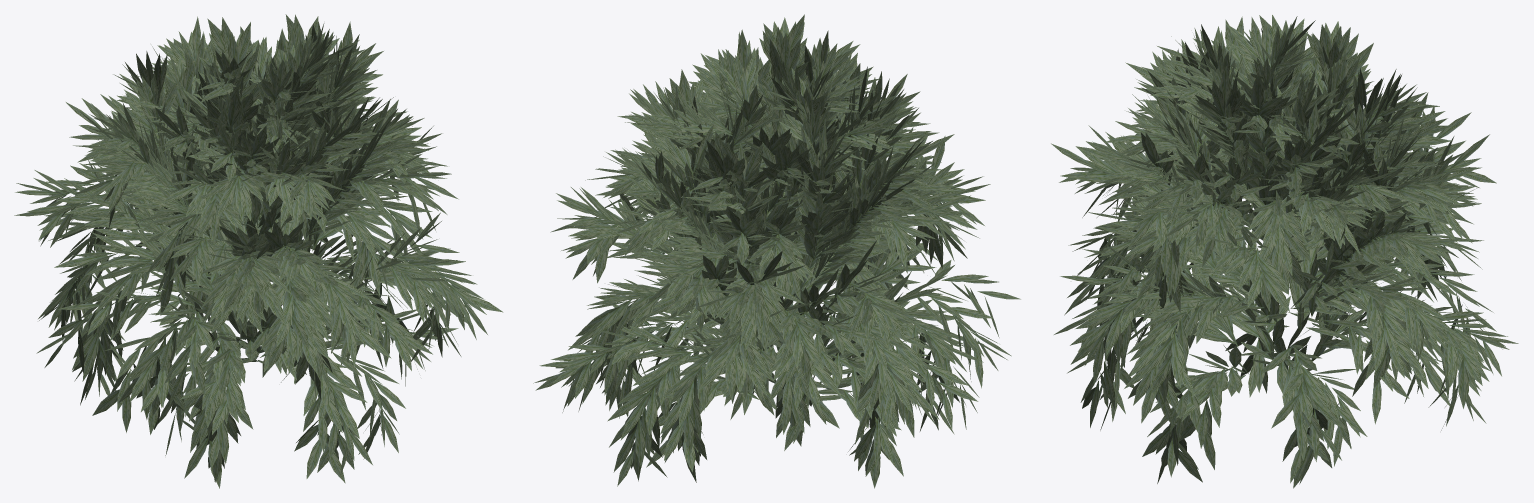
File: Semak.fbx
3 renders of one model, left to right at view 1: azimuth 30°, elevation 25°; view 2: azimuth 150°, elevation 25°; view 3: azimuth 270°, elevation 25°, orthographic.
Parts seen in each view (by area): view 1: leaves; view 2: leaves; view 3: leaves.
Boxes of the visible parts, x1,y1,x2,y2 form: leaves: [14, 14, 503, 488]; leaves: [533, 14, 1020, 488]; leaves: [1051, 15, 1518, 488].
Size of the model in its own units: 180 by 188 by 188.
